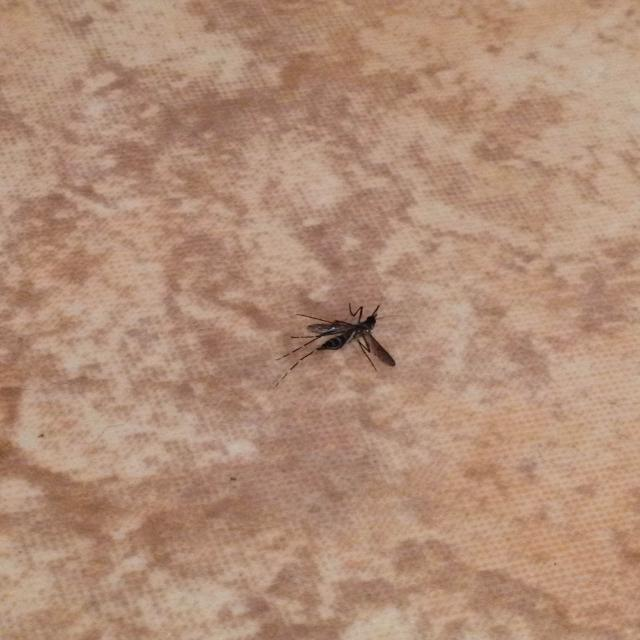albopictus: (268, 293, 399, 387)
